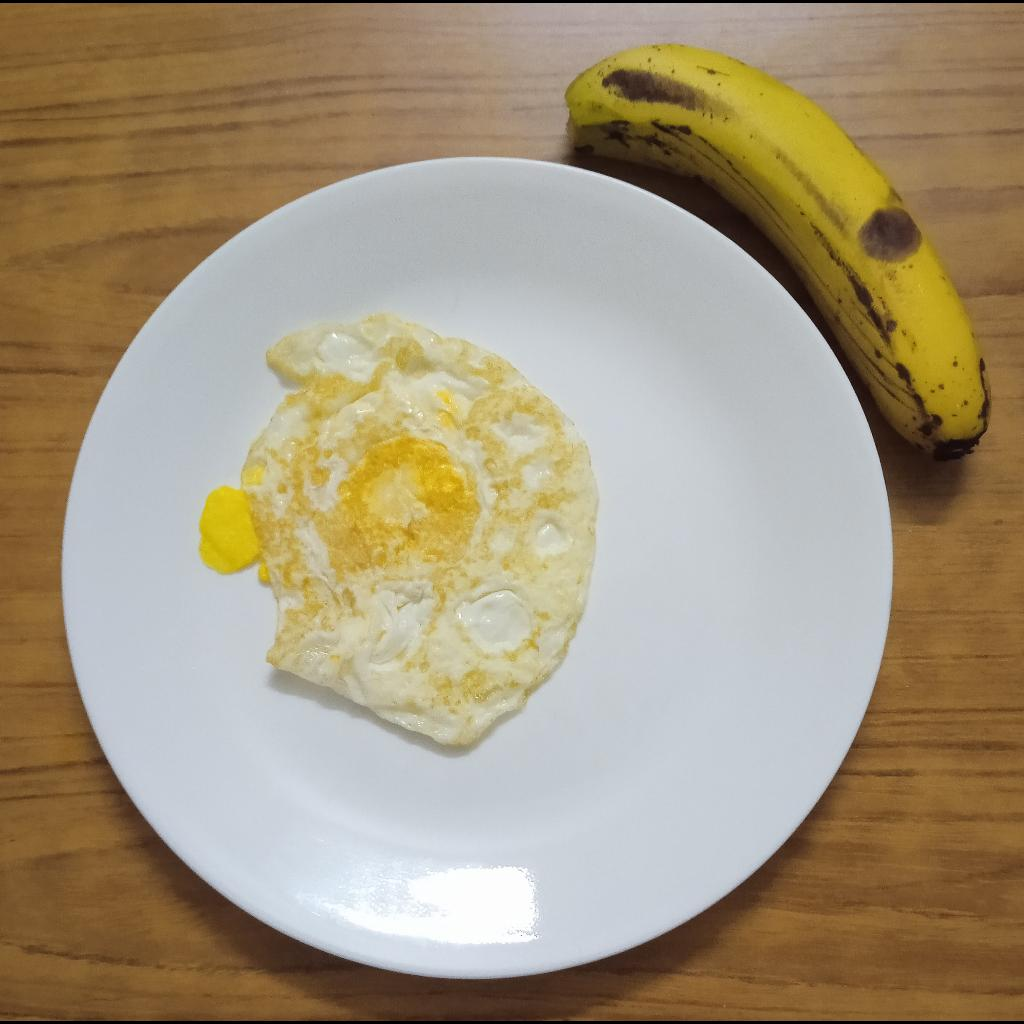banana: (562, 39, 991, 460)
egg-poached: (195, 310, 602, 748)
